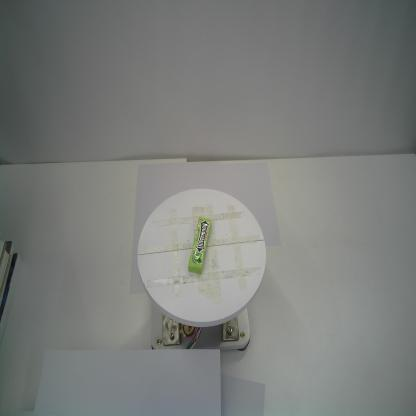Gum: (188, 216, 212, 274)
